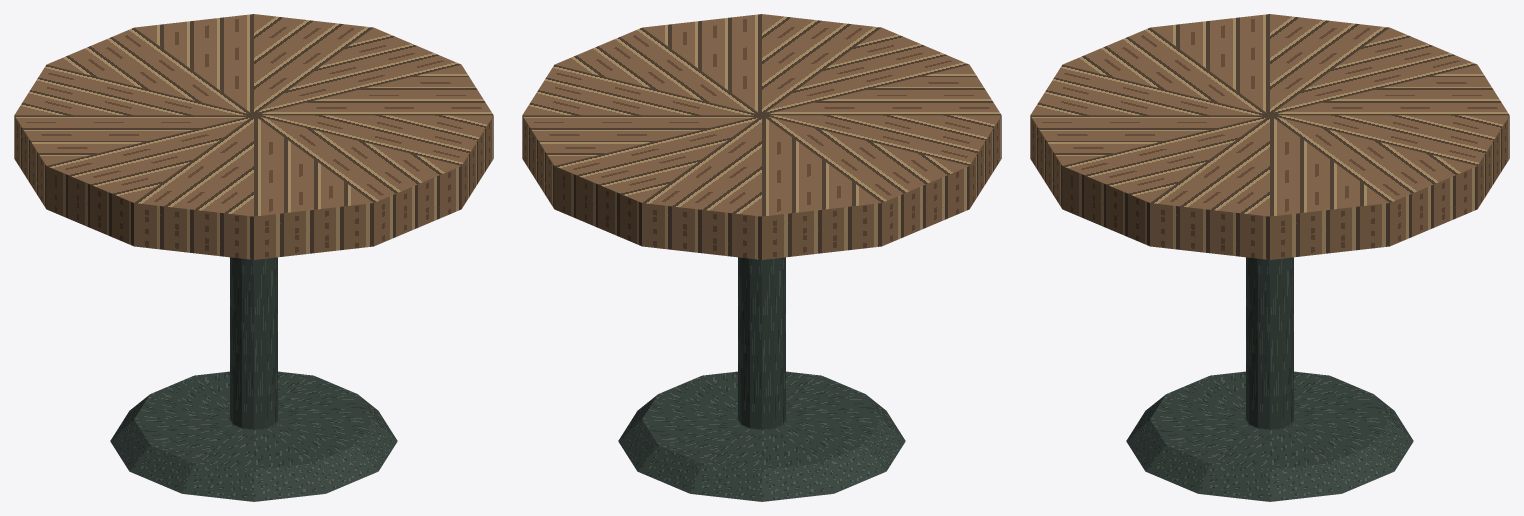
The model's file is cafe_round_table.gltf.
3 renders of one model, left to right at view 1: azimuth 30°, elevation 25°; view 2: azimuth 150°, elevation 25°; view 3: azimuth 270°, elevation 25°, orthographic.
Visible parts, largest first — view 1: tabletop, base, stem; view 2: tabletop, base, stem; view 3: tabletop, base, stem.
Boxes of the visible parts, left/top/right/bottom form: tabletop: left=14, top=14, right=493, bottom=259; base: left=110, top=371, right=397, bottom=501; stem: left=230, top=257, right=277, bottom=429; tabletop: left=522, top=14, right=1001, bottom=259; base: left=618, top=371, right=905, bottom=501; stem: left=738, top=257, right=785, bottom=429; tabletop: left=1030, top=14, right=1509, bottom=259; base: left=1126, top=371, right=1413, bottom=501; stem: left=1246, top=257, right=1293, bottom=429.
Size of the model in its own units: 1.25 by 0.9375 by 1.25.
2 materials, 2 textured.
